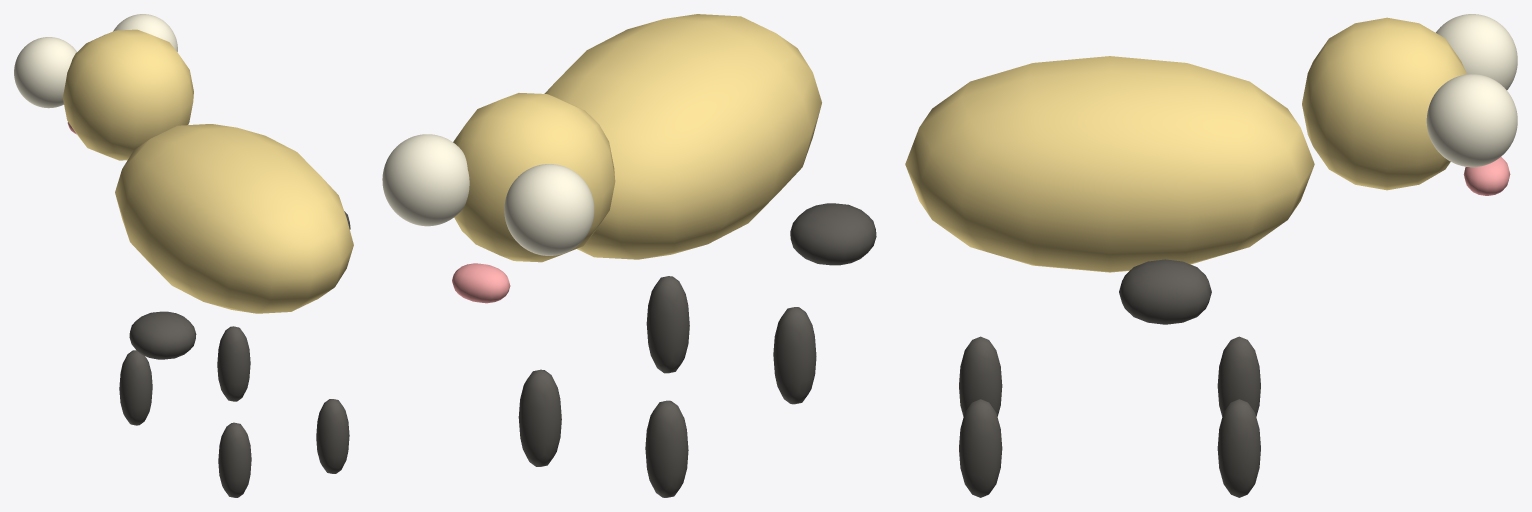
Rendered from cow.glb.
3 renders of one model, left to right at view 1: azimuth 30°, elevation 25°; view 2: azimuth 150°, elevation 25°; view 3: azimuth 270°, elevation 25°, orthographic. The views are drawn at different scales.
Parts seen in each view (by area): view 1: cow; view 2: cow; view 3: cow.
Part boxes in pixels (x1,y1,x2,y2): cow: [14, 14, 353, 497]; cow: [382, 14, 876, 497]; cow: [905, 14, 1517, 497].
Size of the model in its own units: 1.06 by 1.31 by 1.66.
